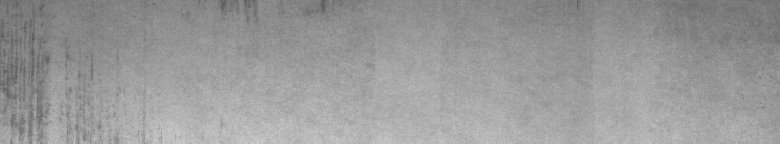ka: (4, 21, 101, 136)
